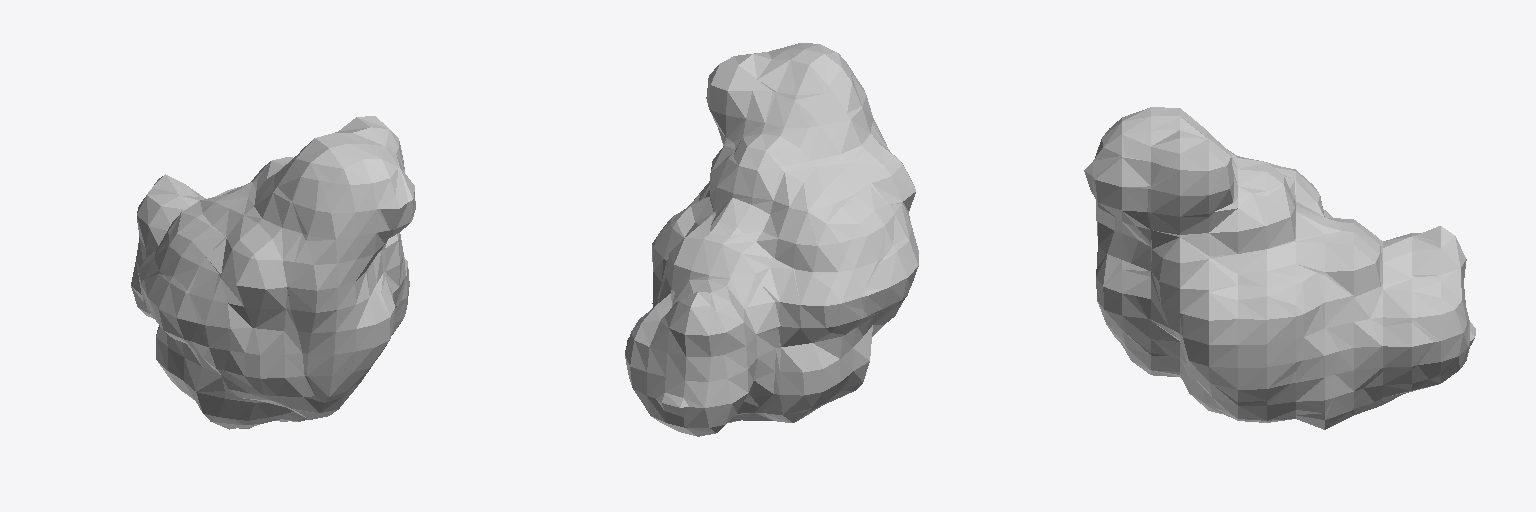
Rendered from 3ez2_cms.obj.
3 views of the same model, side by side, from view 1: azimuth 30°, elevation 25°; view 2: azimuth 150°, elevation 25°; view 3: azimuth 270°, elevation 25° (orthographic).
Bounding box in the file's own units: 72.34 × 89.14 × 104.